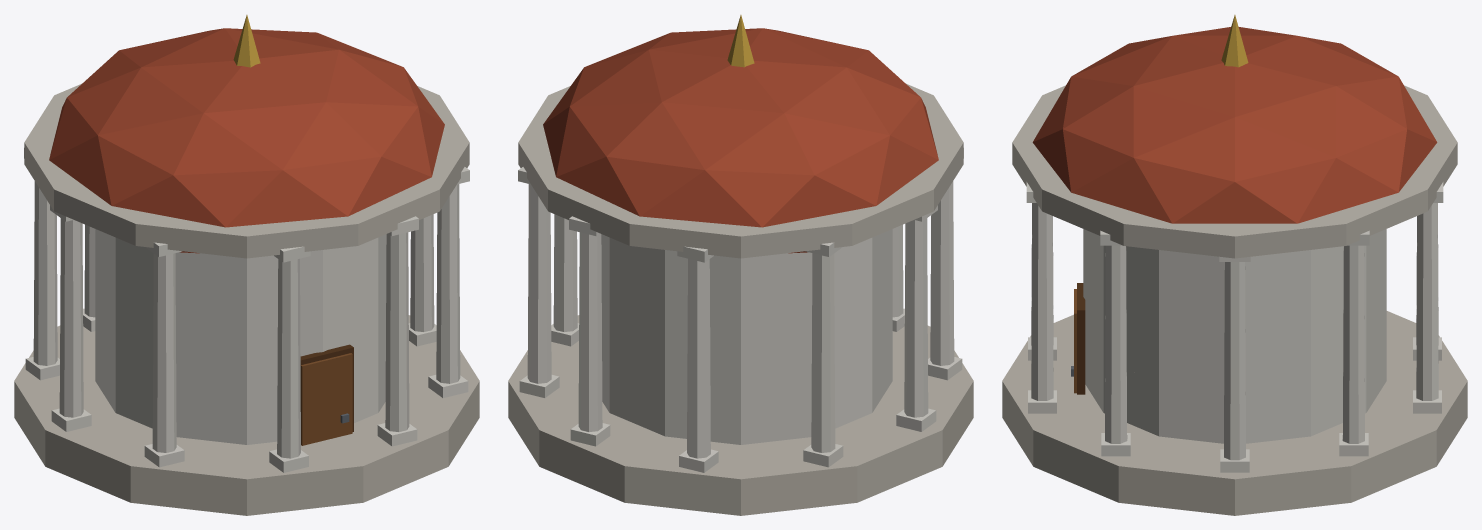
The model's file is angel_house_c_broken.glb.
The picture shows the model from 3 angles, left to right: view 1: azimuth 30°, elevation 25°; view 2: azimuth 150°, elevation 25°; view 3: azimuth 270°, elevation 25°; orthographic projection.
Parts seen in each view (by area): view 1: angel_house_c_piece2, angel_house_c_piece6, angel_house_c_piece5, angel_house_c_piece9, angel_house_c_piece0, angel_house_c_piece4, angel_house_c_piece10, angel_house_c_piece11, angel_house_c_piece7, angel_house_c_piece8, angel_house_c_piece3, angel_house_c_piece1; view 2: angel_house_c_piece7, angel_house_c_piece4, angel_house_c_piece3, angel_house_c_piece6, angel_house_c_piece9, angel_house_c_piece10, angel_house_c_piece8, angel_house_c_piece1, angel_house_c_piece2, angel_house_c_piece0, angel_house_c_piece11; view 3: angel_house_c_piece3, angel_house_c_piece2, angel_house_c_piece8, angel_house_c_piece5, angel_house_c_piece4, angel_house_c_piece7, angel_house_c_piece1, angel_house_c_piece9, angel_house_c_piece0.
Boxes of the visible parts, x1,y1,x2,y2 form: angel_house_c_piece2: [201, 54, 469, 308]; angel_house_c_piece6: [14, 258, 251, 515]; angel_house_c_piece5: [268, 243, 469, 504]; angel_house_c_piece9: [24, 78, 251, 223]; angel_house_c_piece0: [200, 231, 344, 512]; angel_house_c_piece4: [38, 15, 328, 125]; angel_house_c_piece10: [35, 181, 217, 393]; angel_house_c_piece11: [125, 203, 235, 335]; angel_house_c_piece7: [22, 183, 111, 380]; angel_house_c_piece8: [379, 282, 479, 432]; angel_house_c_piece3: [179, 28, 434, 305]; angel_house_c_piece1: [241, 428, 273, 515]; angel_house_c_piece7: [580, 259, 860, 515]; angel_house_c_piece4: [646, 15, 812, 354]; angel_house_c_piece3: [518, 46, 686, 390]; angel_house_c_piece6: [815, 269, 973, 507]; angel_house_c_piece9: [798, 52, 936, 281]; angel_house_c_piece10: [834, 147, 963, 297]; angel_house_c_piece8: [508, 297, 628, 451]; angel_house_c_piece1: [530, 331, 930, 487]; angel_house_c_piece2: [543, 28, 933, 118]; angel_house_c_piece0: [892, 96, 939, 339]; angel_house_c_piece11: [930, 104, 963, 191]; angel_house_c_piece3: [1166, 91, 1457, 441]; angel_house_c_piece2: [1012, 49, 1254, 376]; angel_house_c_piece8: [1076, 283, 1424, 515]; angel_house_c_piece5: [1002, 203, 1154, 490]; angel_house_c_piece4: [1159, 15, 1452, 238]; angel_house_c_piece7: [1373, 239, 1467, 437]; angel_house_c_piece1: [1057, 330, 1454, 477]; angel_house_c_piece9: [1112, 27, 1348, 55]; angel_house_c_piece0: [1010, 89, 1083, 380].
Bounding box in the file's own units: 2.3 × 2.2 × 2.3.
